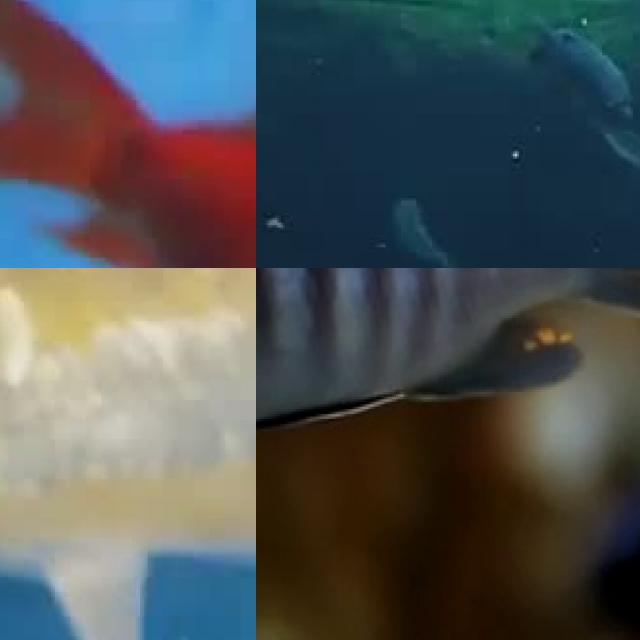fish: (0, 0, 256, 268), (144, 268, 256, 557)
